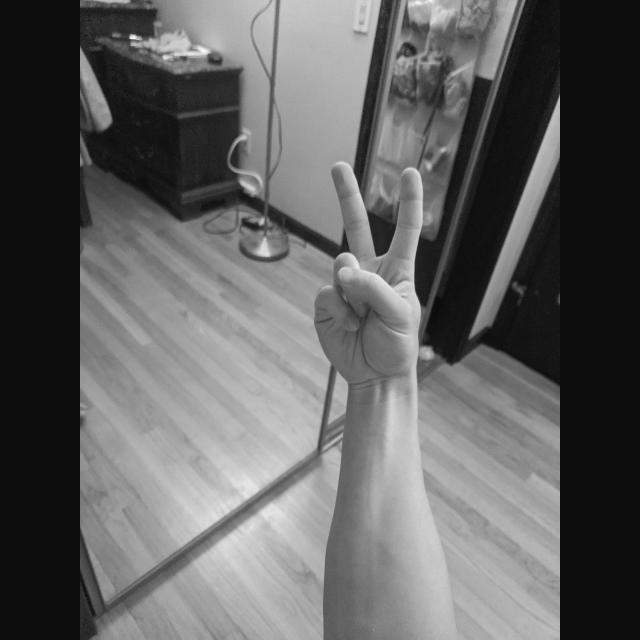V: (310, 158, 430, 388)
